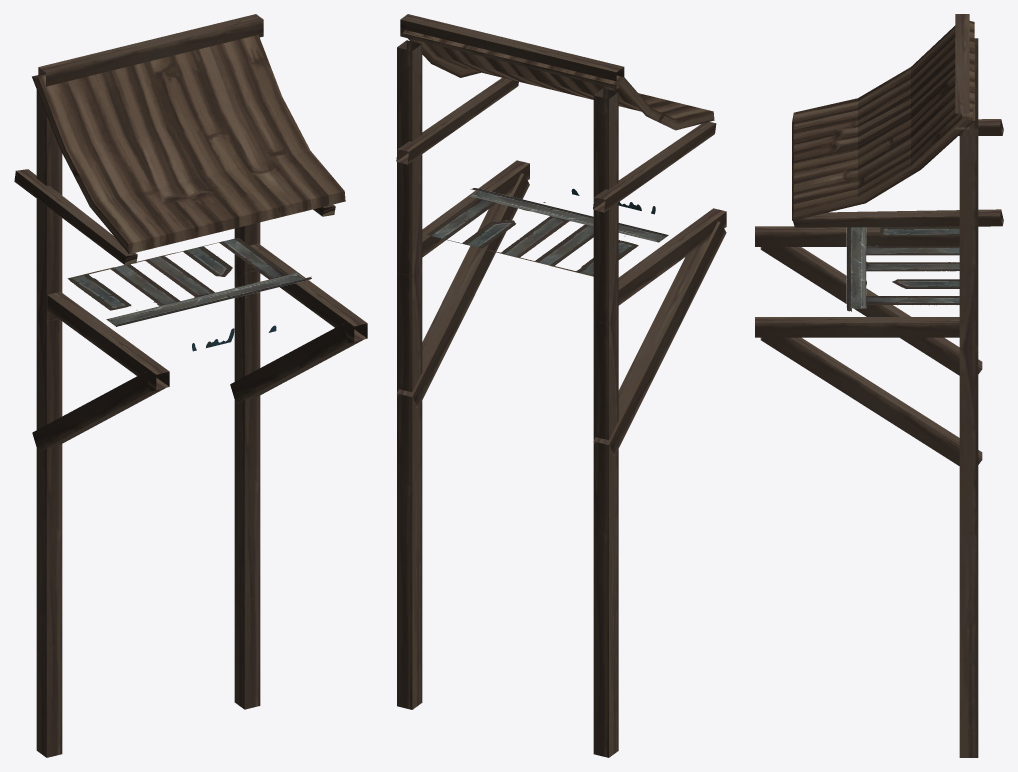
The model's file is WuJian08.FBX.
3 views of the same model, side by side, from view 1: azimuth 30°, elevation 25°; view 2: azimuth 150°, elevation 25°; view 3: azimuth 270°, elevation 25° (orthographic). The views are drawn at different scales.
Visible parts, largest first — view 1: WuJian08; view 2: WuJian08; view 3: WuJian08.
Part boxes in pixels (x1,y1,x2,y2): WuJian08: (14, 14, 367, 757); WuJian08: (396, 14, 726, 757); WuJian08: (755, 14, 1003, 757).
Size of the model in its own units: 148 by 430 by 150.
